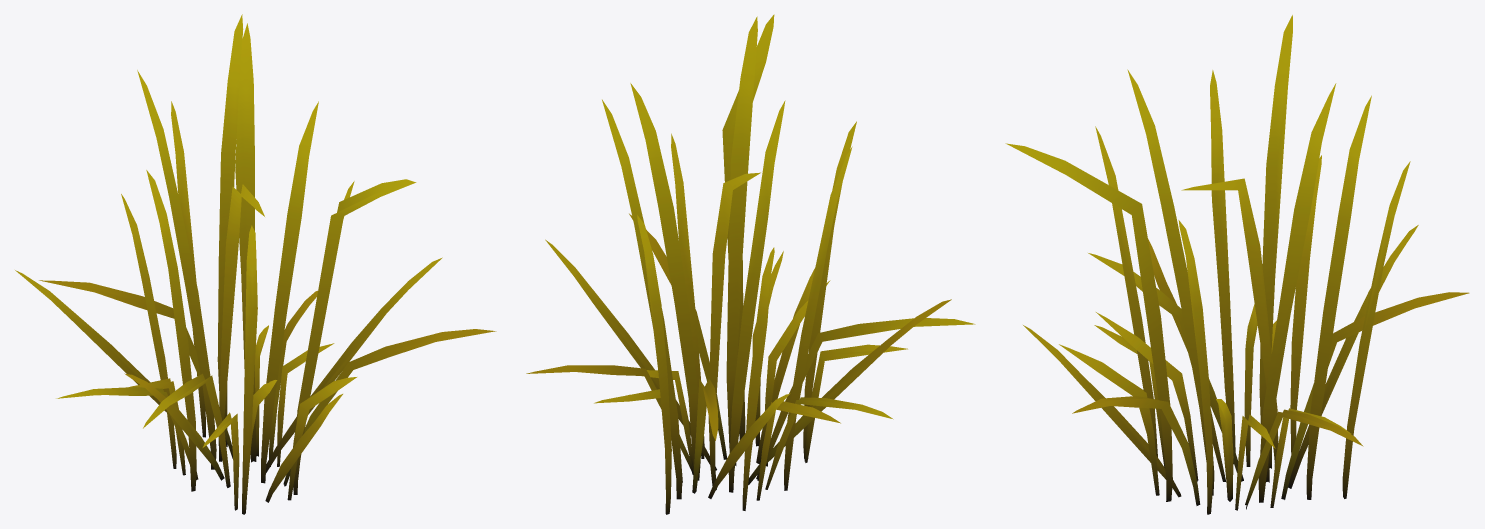
File: grass_wispy_tall.glb
3 views of the same model, side by side, from view 1: azimuth 30°, elevation 25°; view 2: azimuth 150°, elevation 25°; view 3: azimuth 270°, elevation 25° (orthographic). The views are drawn at different scales.
Parts seen in each view (by area): view 1: Grass_Wispy_Tall; view 2: Grass_Wispy_Tall; view 3: Grass_Wispy_Tall.
Part boxes in pixels (x1=…): Grass_Wispy_Tall: x1=15, y1=14, x2=496, y2=514; Grass_Wispy_Tall: x1=526, y1=14, x2=975, y2=514; Grass_Wispy_Tall: x1=1005, y1=15, x2=1469, y2=514.
Size of the model in its own units: 1.54 by 1.67 by 1.59.
Materials: 1 (1 with a texture image).
